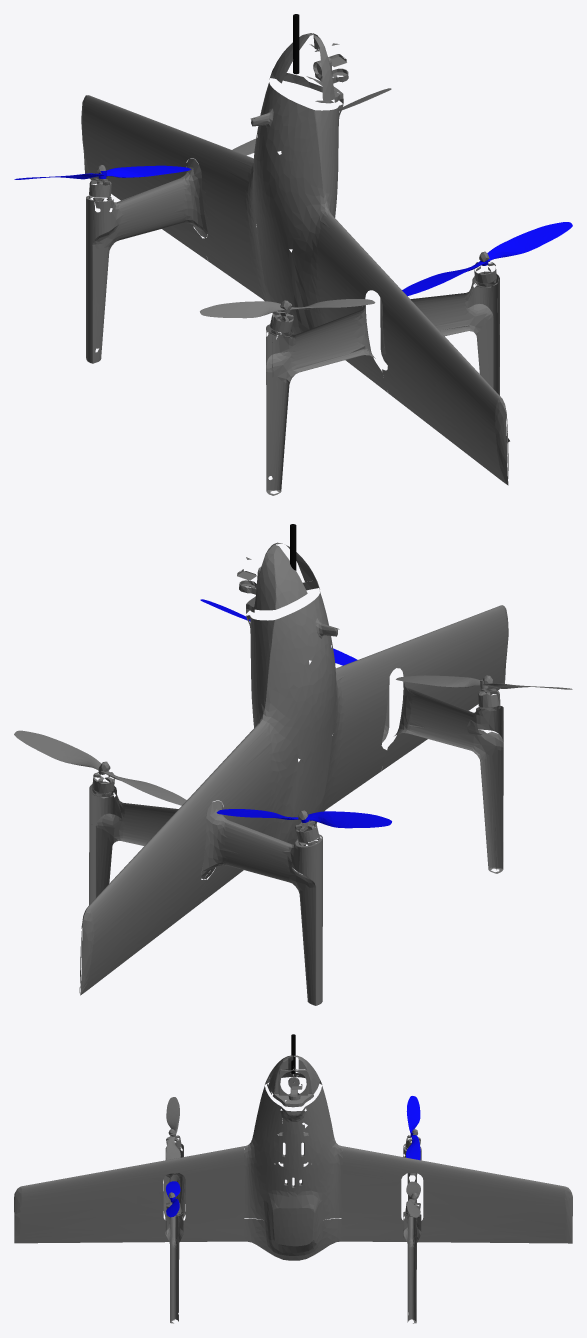
Rendered from quadtailsitter.glb.
3 renders of one model, top to bottom at view 1: azimuth 30°, elevation 25°; view 2: azimuth 150°, elevation 25°; view 3: azimuth 270°, elevation 25°, orthographic. The views are drawn at different scales.
Visible parts, largest first — view 1: base_link/base_link_visual:0, rotor_0/rotor_0_visual:0, rotor_3/rotor_3_visual:0, rotor_1/rotor_1_visual:0; view 2: base_link/base_link_visual:0, rotor_2/rotor_2_visual:0, rotor_1/rotor_1_visual:0, rotor_3/rotor_3_visual:0; view 3: base_link/base_link_visual:0, rotor_1/rotor_1_visual:0, rotor_3/rotor_3_visual:0, rotor_2/rotor_2_visual:0, rotor_0/rotor_0_visual:0.
Boxes of the visible parts, x1,y1,x2,y2 form: base_link/base_link_visual:0: (81, 33, 509, 495); rotor_0/rotor_0_visual:0: (402, 222, 572, 296); rotor_3/rotor_3_visual:0: (200, 299, 375, 318); rotor_1/rotor_1_visual:0: (14, 165, 190, 179); base_link/base_link_visual:0: (79, 542, 508, 1005); rotor_2/rotor_2_visual:0: (14, 730, 186, 805); rotor_1/rotor_1_visual:0: (216, 809, 391, 828); rotor_3/rotor_3_visual:0: (396, 675, 572, 689); base_link/base_link_visual:0: (14, 1055, 572, 1323); rotor_1/rotor_1_visual:0: (406, 1096, 420, 1159); rotor_3/rotor_3_visual:0: (166, 1097, 180, 1173); rotor_2/rotor_2_visual:0: (406, 1181, 420, 1217); rotor_0/rotor_0_visual:0: (166, 1181, 180, 1217).
Size of the model in its own units: 0.5476 by 0.5348 by 1.07.
